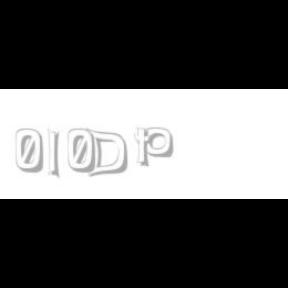0: (67, 128, 98, 174), (16, 128, 46, 174)
D: (84, 128, 128, 178)
l: (47, 128, 63, 180)
o: (144, 128, 172, 158)
t: (134, 128, 156, 168)
